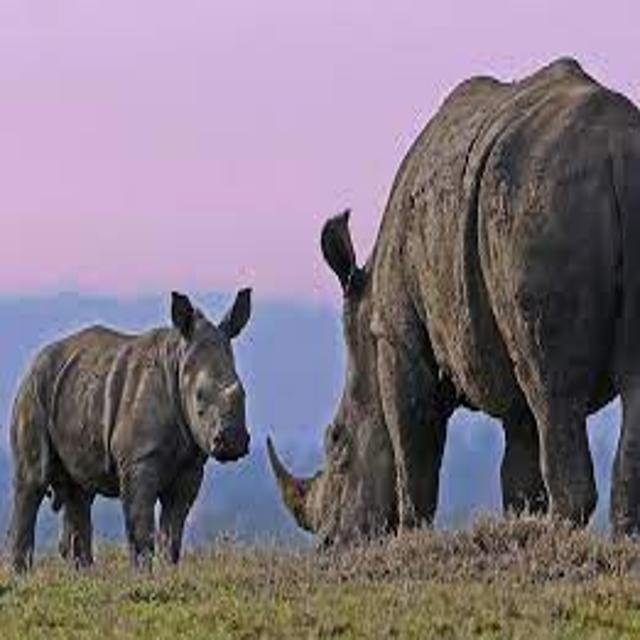rhino: (236, 39, 640, 573), (6, 268, 269, 585)
